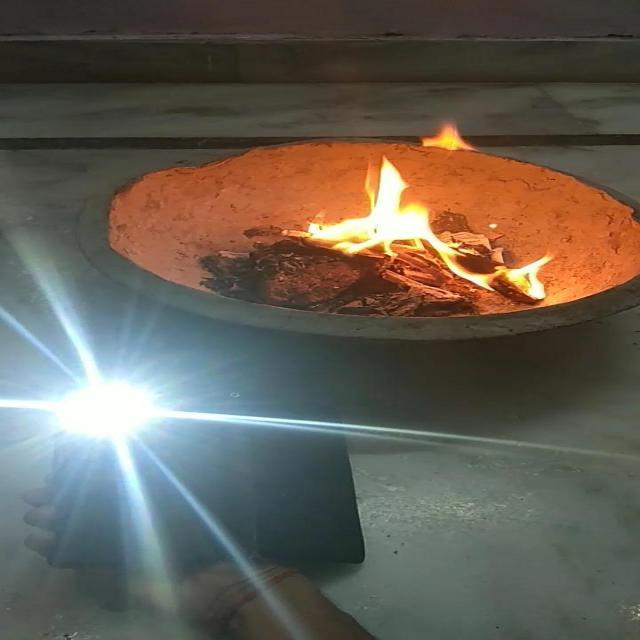fire: (302, 152, 562, 316), (416, 115, 495, 178)
smoke: (46, 332, 203, 481)
